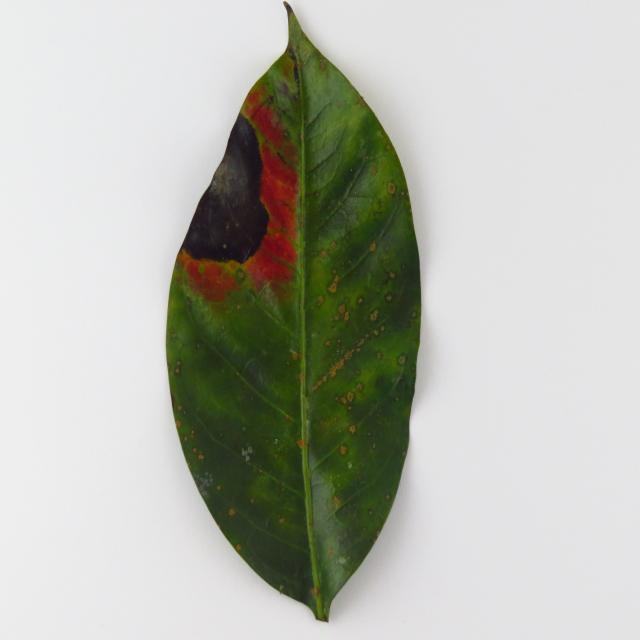DeficienciaNutricional-Fosforo: (166, 5, 420, 620)
